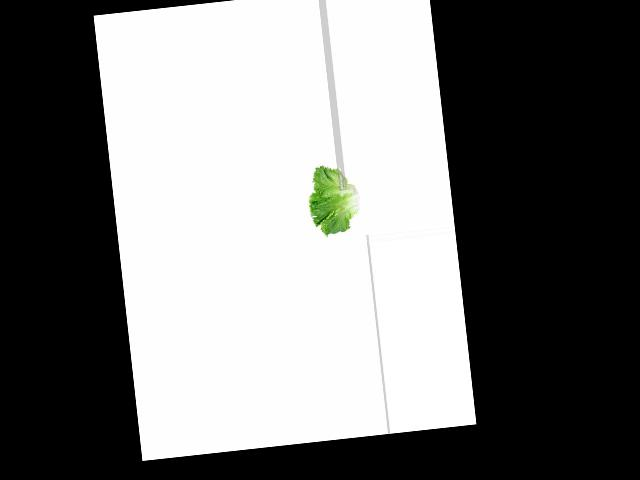lettuce: (306, 165, 363, 237)
